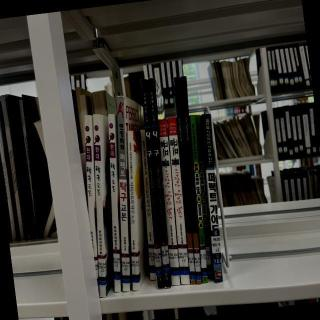book-spine: (140, 78, 164, 288), (147, 78, 171, 288), (174, 77, 196, 284), (181, 76, 201, 284), (167, 117, 190, 285), (158, 119, 180, 285), (202, 114, 223, 283), (190, 115, 208, 283), (195, 115, 212, 278), (116, 96, 130, 291), (138, 129, 156, 280), (84, 115, 98, 286), (93, 114, 106, 297), (108, 113, 120, 292), (126, 130, 139, 291)
